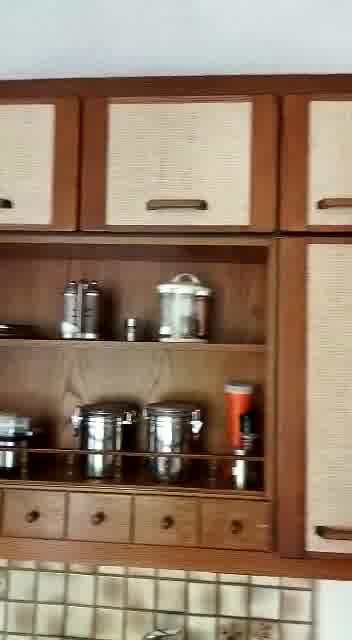cabinet_door: (82, 95, 279, 237), (200, 497, 275, 552), (134, 496, 198, 548), (68, 494, 131, 545), (3, 488, 65, 539)
handle: (139, 188, 212, 216), (86, 508, 114, 534), (225, 516, 249, 541), (157, 510, 178, 535), (20, 506, 42, 526)
